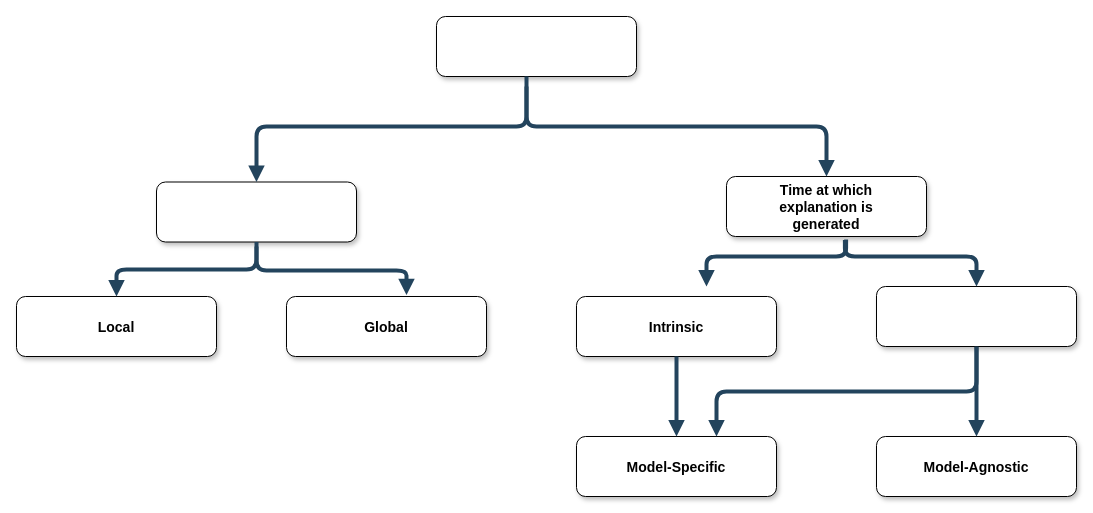
This 1093x513 diagram has some shape labels left out. The shapes that lost their labels are listed below. From the top down, each one's centre as x and y in pixels, then its label:
At (537,48): "Explainability AI".
At (257,213): "Scope".
At (977,318): "Post hoc".
